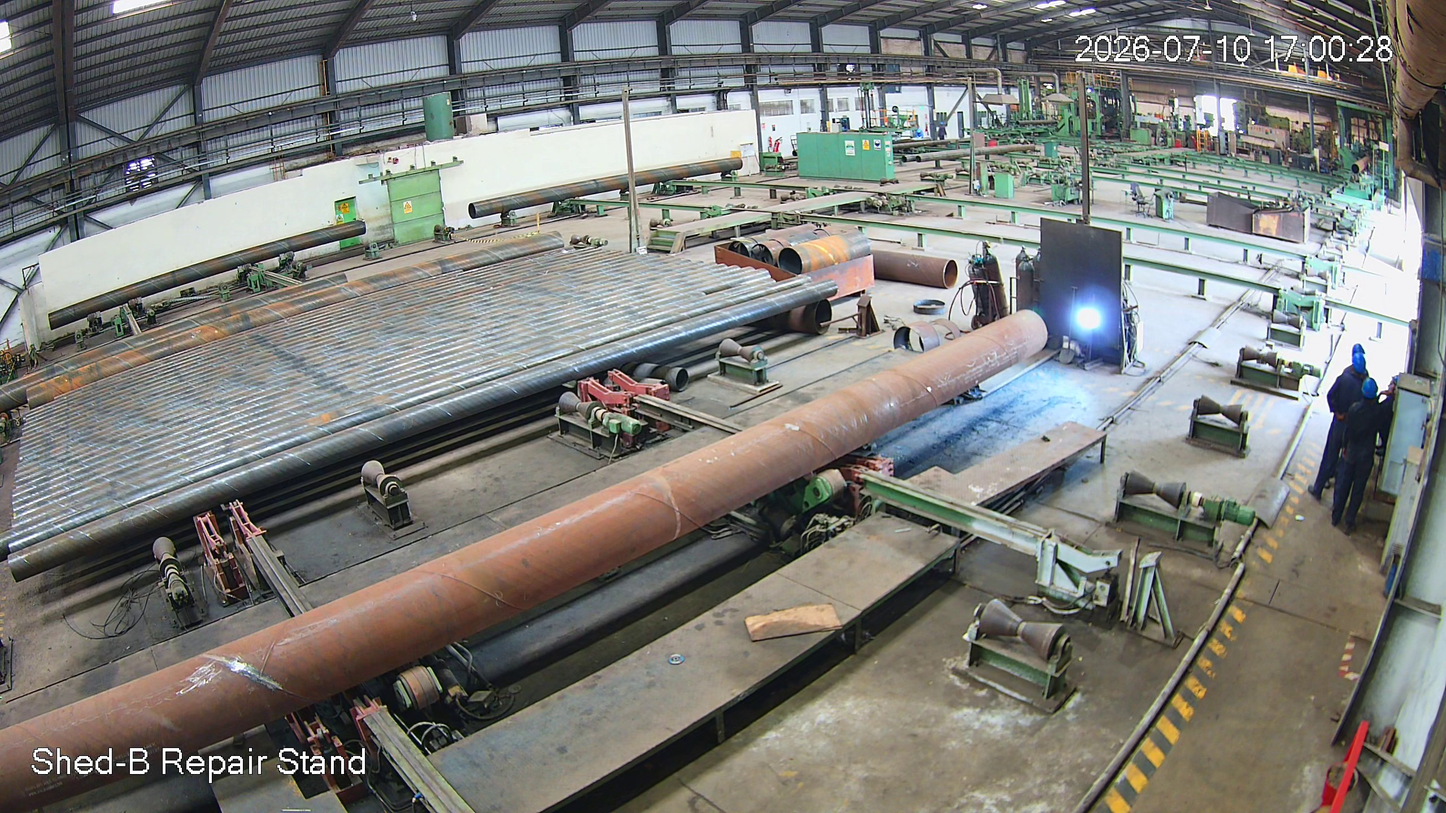Helmet: (1357, 373, 1389, 417), (1346, 343, 1370, 377)
Person: (1316, 347, 1374, 506), (1334, 377, 1384, 543)
